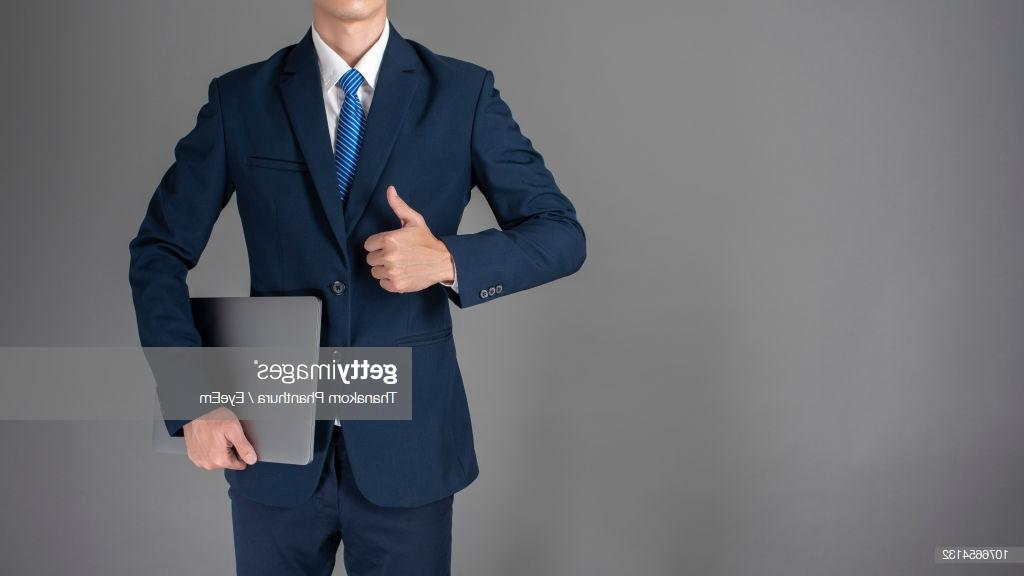thumbsup: (363, 184, 424, 294)
